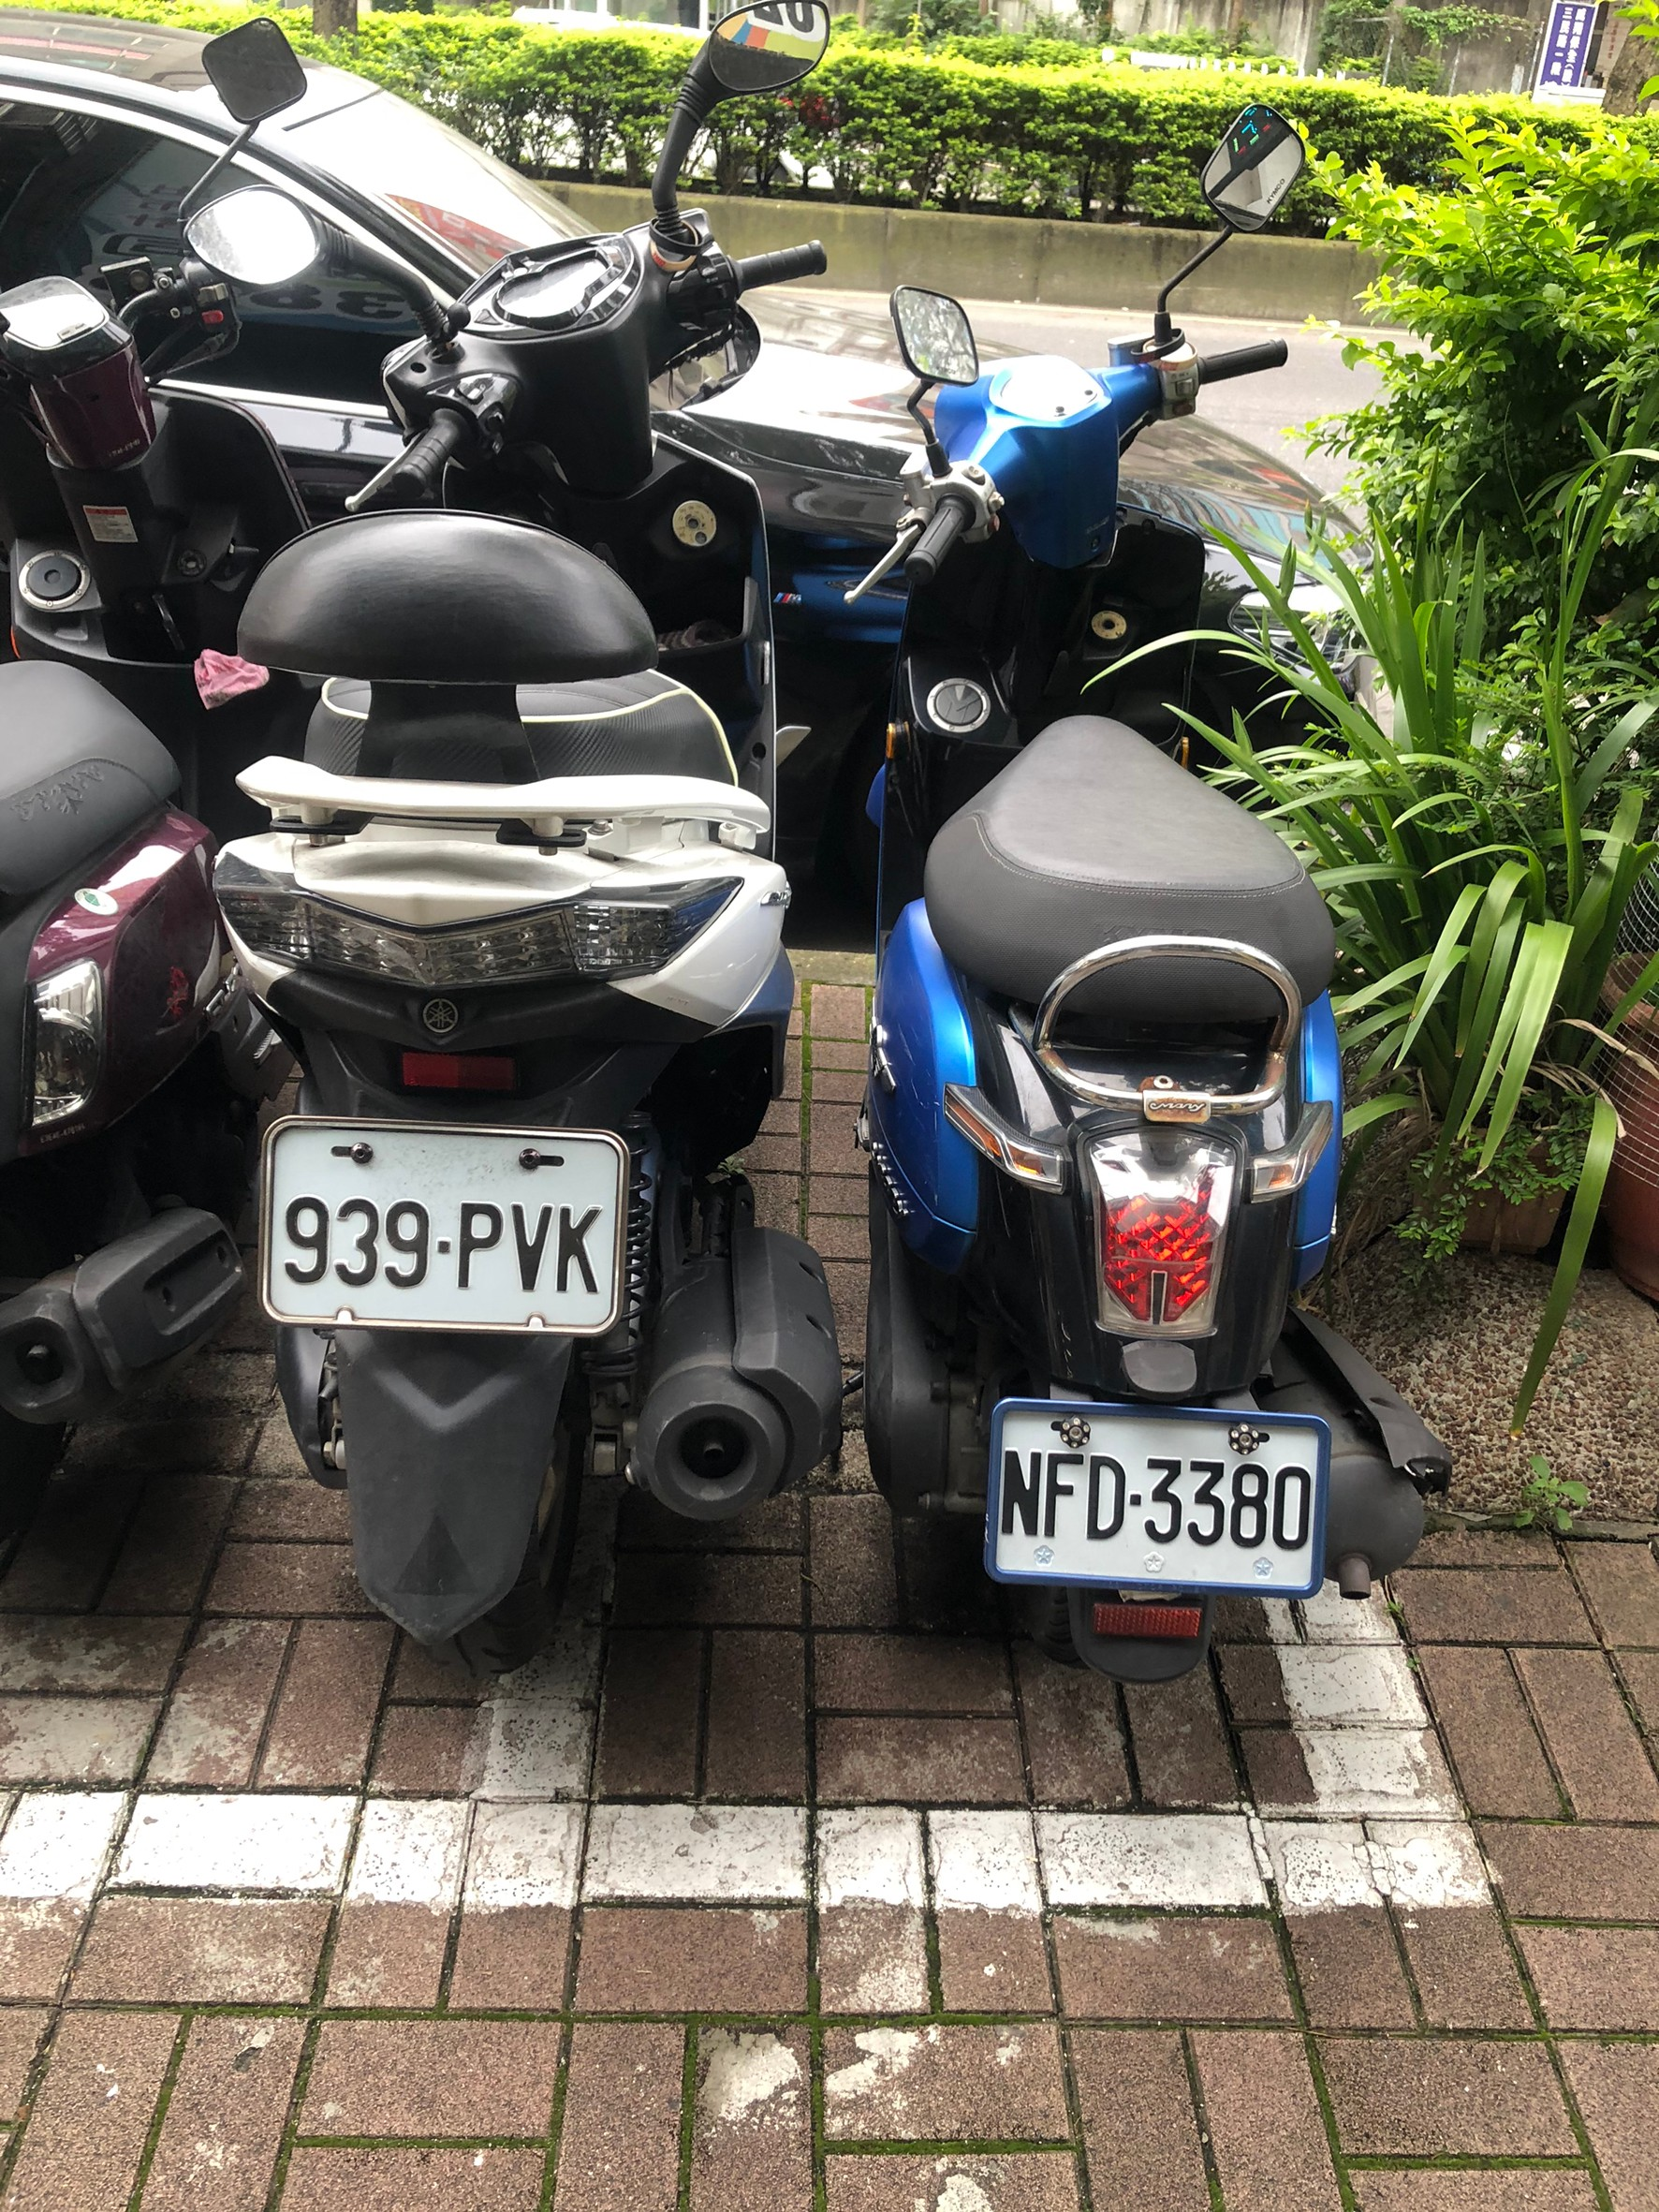LP: (265, 1109, 620, 1333), (992, 1403, 1321, 1591)
